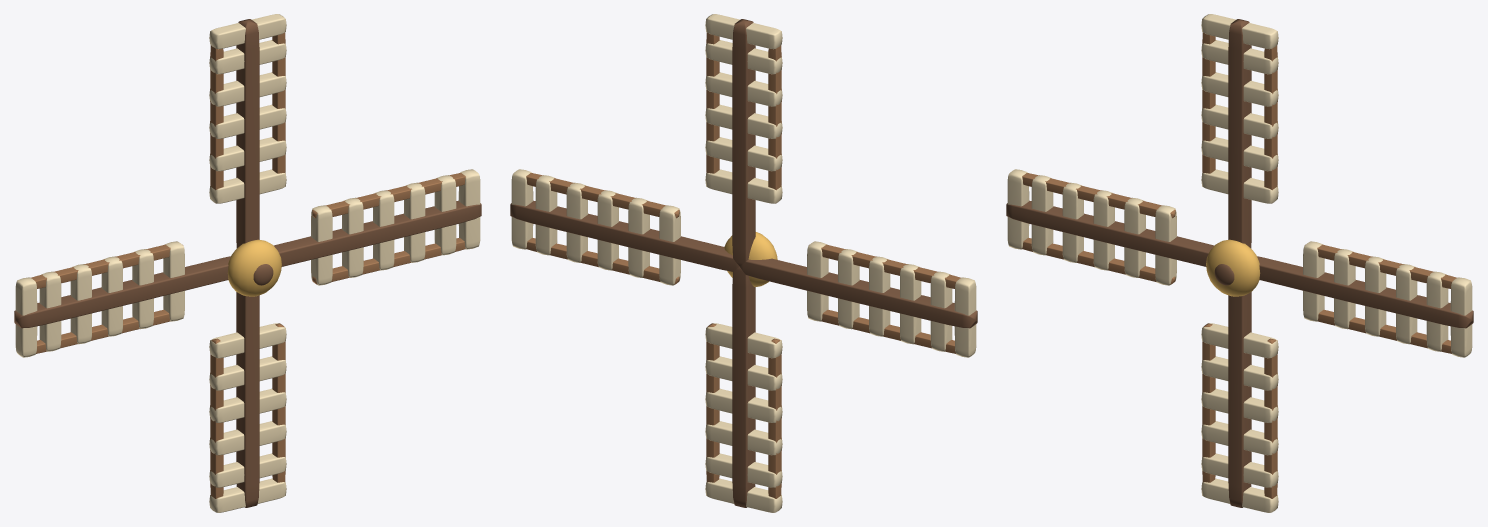
File: pas-cartoon.obj
The picture shows the model from 3 angles, left to right: view 1: azimuth 30°, elevation 25°; view 2: azimuth 150°, elevation 25°; view 3: azimuth 330°, elevation 25°; orthographic projection.
Parts seen in each view (by area): view 1: madeira, volume; view 2: madeira, volume; view 3: madeira, volume.
Part boxes in pixels (x1,y1,x2,y2): madeira: (14, 14, 481, 512); volume: (227, 239, 281, 296); madeira: (510, 14, 977, 512); volume: (724, 232, 777, 286); madeira: (1006, 14, 1473, 512); volume: (1206, 239, 1260, 296).
Bounding box in the file's own units: 2.7 × 2.7 × 0.225.
1 material, 1 textured.
